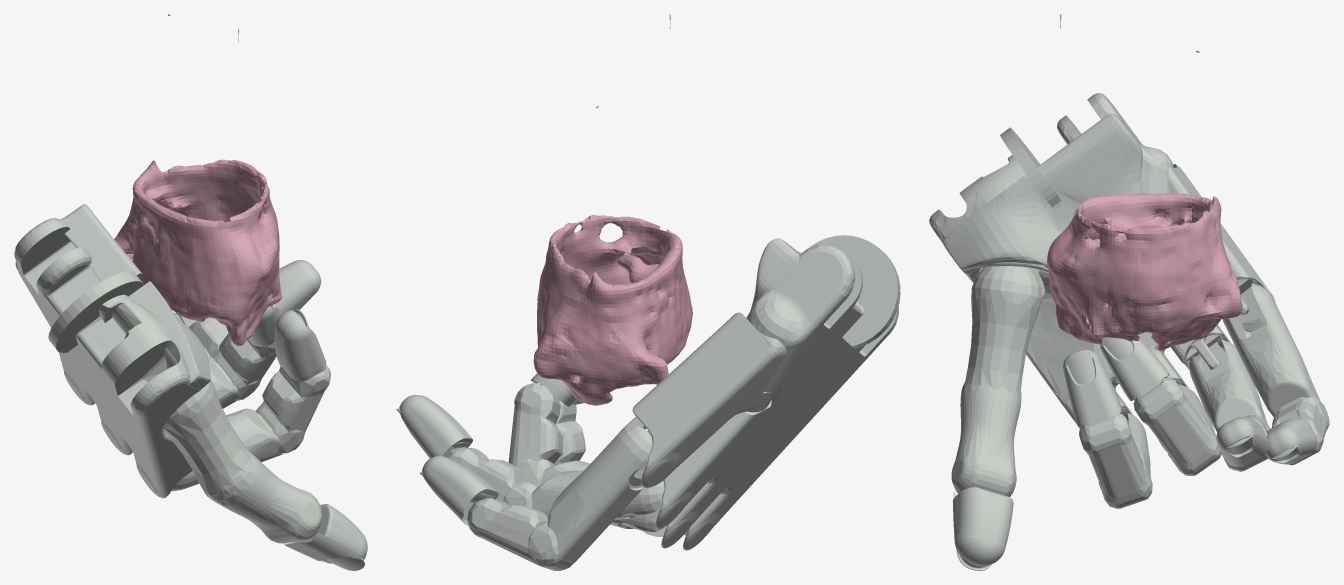
The picture shows the model from 3 angles, left to right: view 1: azimuth 30°, elevation 25°; view 2: azimuth 150°, elevation 25°; view 3: azimuth 270°, elevation 25°; orthographic projection. The views are drawn at different scales.
Parts seen in each view (by area): view 1: hand, world; view 2: hand, world; view 3: hand, world.
Boxes of the visible parts, <box> form: hand: <box>14,204,367,570</box>; world: <box>114,14,281,345</box>; hand: <box>396,235,900,570</box>; world: <box>533,14,692,405</box>; hand: <box>929,93,1329,570</box>; world: <box>1047,14,1242,350</box>.
Size of the model in its own units: 0.1534 by 0.2089 by 0.145.
